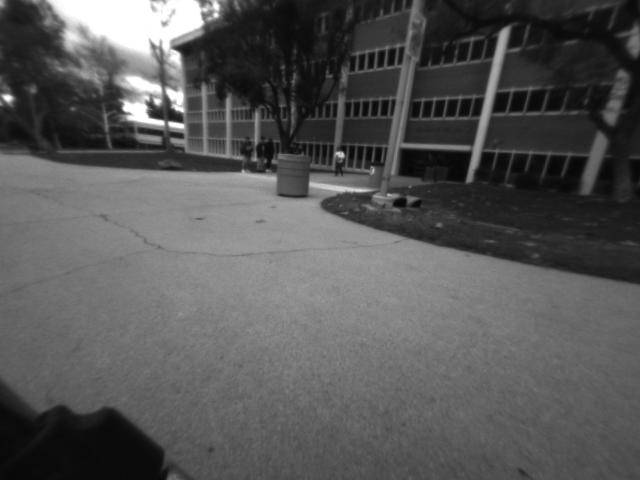trashcan: (272, 146, 316, 204), (364, 157, 384, 190)
